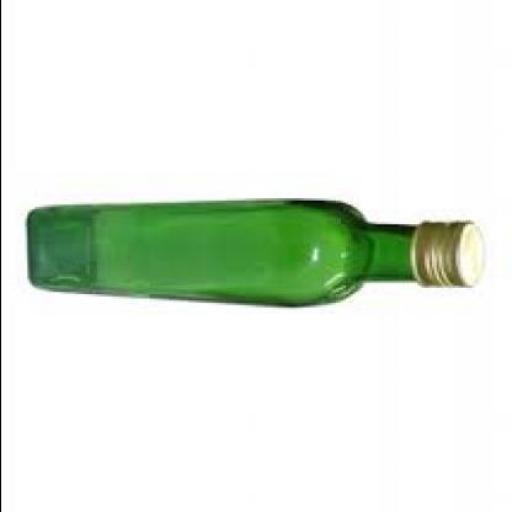glass: (29, 198, 423, 304)
metal: (417, 218, 488, 283)
